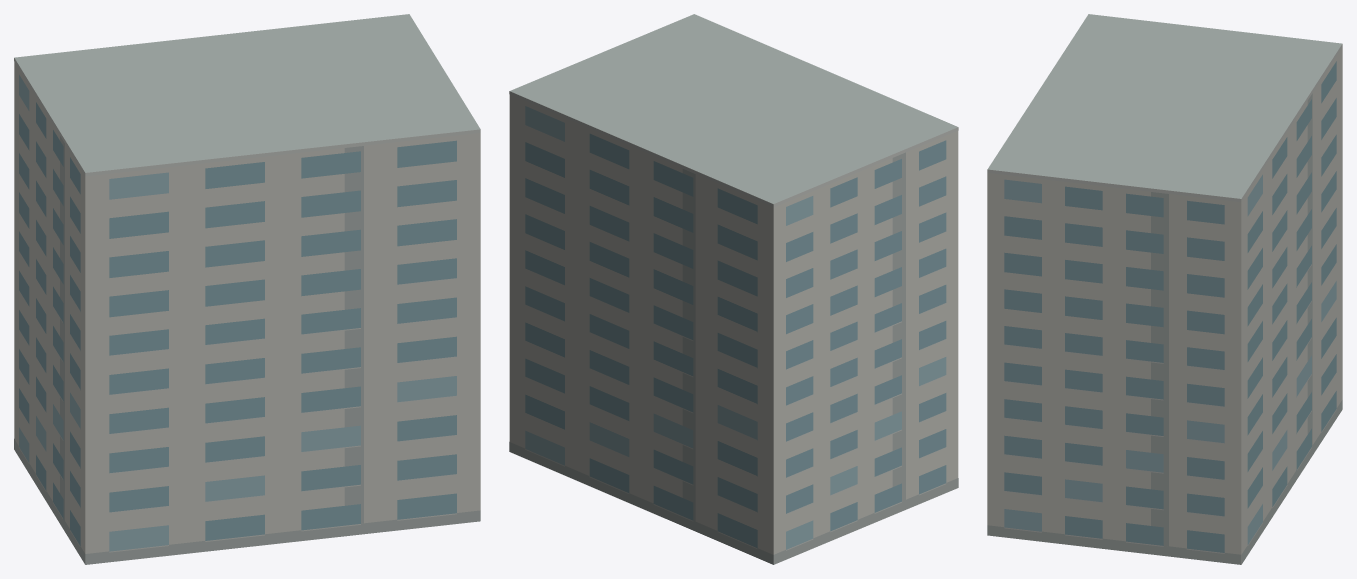
File: residential-0ebeb930-e54e-4c30-a1f3-6b51e30a9524.glb
The picture shows the model from 3 angles, left to right: view 1: azimuth 30°, elevation 25°; view 2: azimuth 150°, elevation 25°; view 3: azimuth 270°, elevation 25°; orthographic projection. The views are drawn at different scales.
Visible parts, largest first — view 1: residential-0ebeb930-e54e-4c30-a1f3-6b51e30a9524.tmp; view 2: residential-0ebeb930-e54e-4c30-a1f3-6b51e30a9524.tmp; view 3: residential-0ebeb930-e54e-4c30-a1f3-6b51e30a9524.tmp.
Boxes of the visible parts, x1,y1,x2,y2 form: residential-0ebeb930-e54e-4c30-a1f3-6b51e30a9524.tmp: (14, 14, 480, 564); residential-0ebeb930-e54e-4c30-a1f3-6b51e30a9524.tmp: (509, 14, 958, 564); residential-0ebeb930-e54e-4c30-a1f3-6b51e30a9524.tmp: (987, 14, 1342, 564).
Size of the model in its own units: 28.19 by 26 by 22.88.
